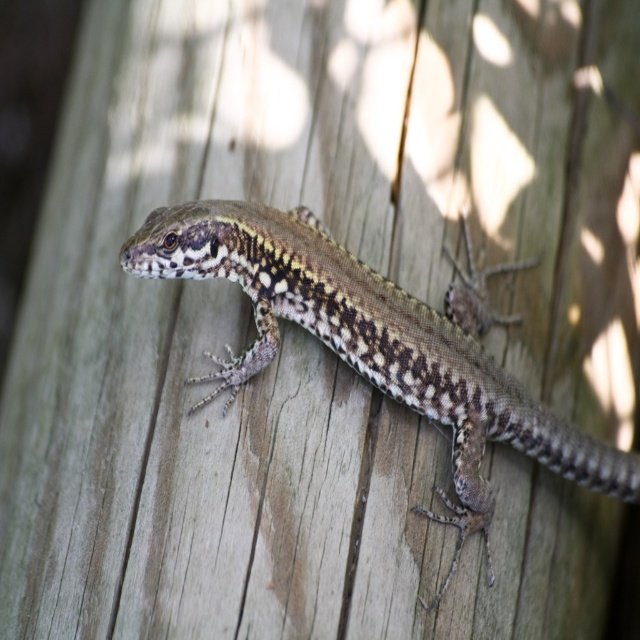Lizard: (119, 198, 640, 615)
